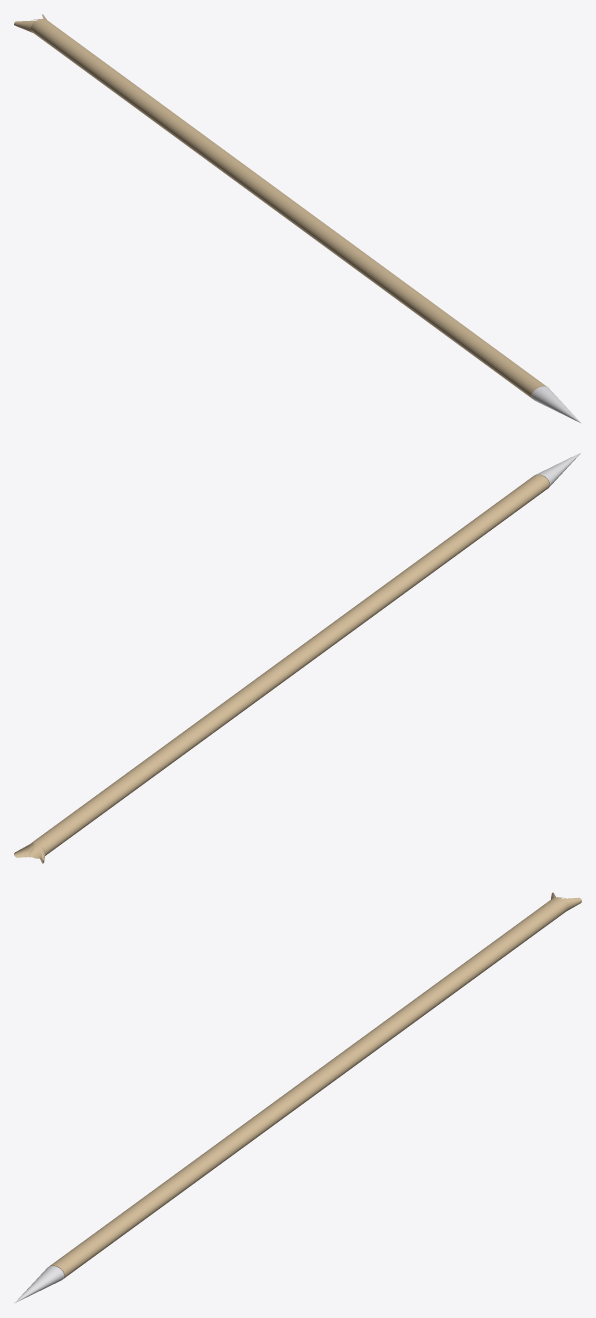
File: arrow.glb
The picture shows the model from 3 angles, top to bottom: view 1: azimuth 30°, elevation 25°; view 2: azimuth 150°, elevation 25°; view 3: azimuth 330°, elevation 25°; orthographic projection.
Parts seen in each view (by area): view 1: arrow; view 2: arrow; view 3: arrow.
Boxes of the visible parts, x1,y1,x2,y2 form: arrow: (14,14,581,423); arrow: (14,452,581,863); arrow: (14,892,581,1303).
Bounding box in the file's own units: 0.0315 × 0.0148 × 1.
